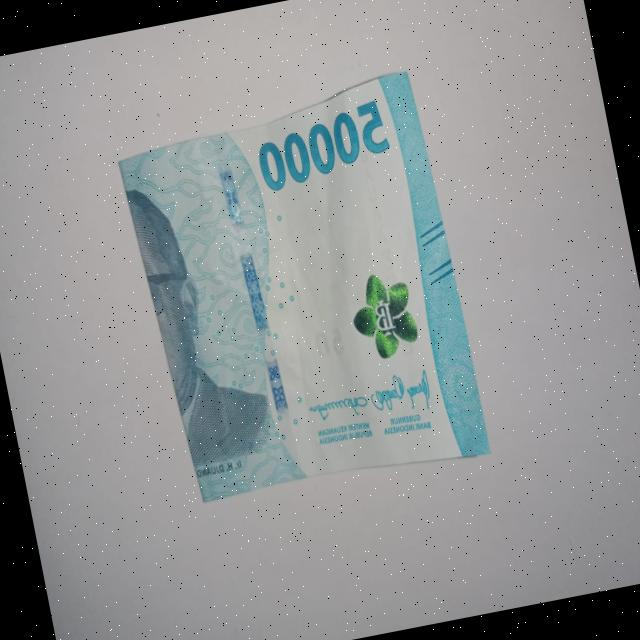50K: (112, 54, 500, 518)
